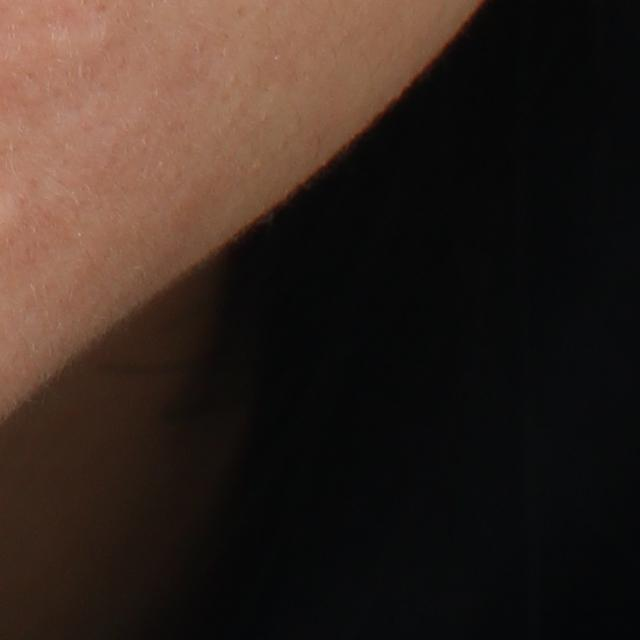hypertrophic_scar: (21, 14, 115, 70)
